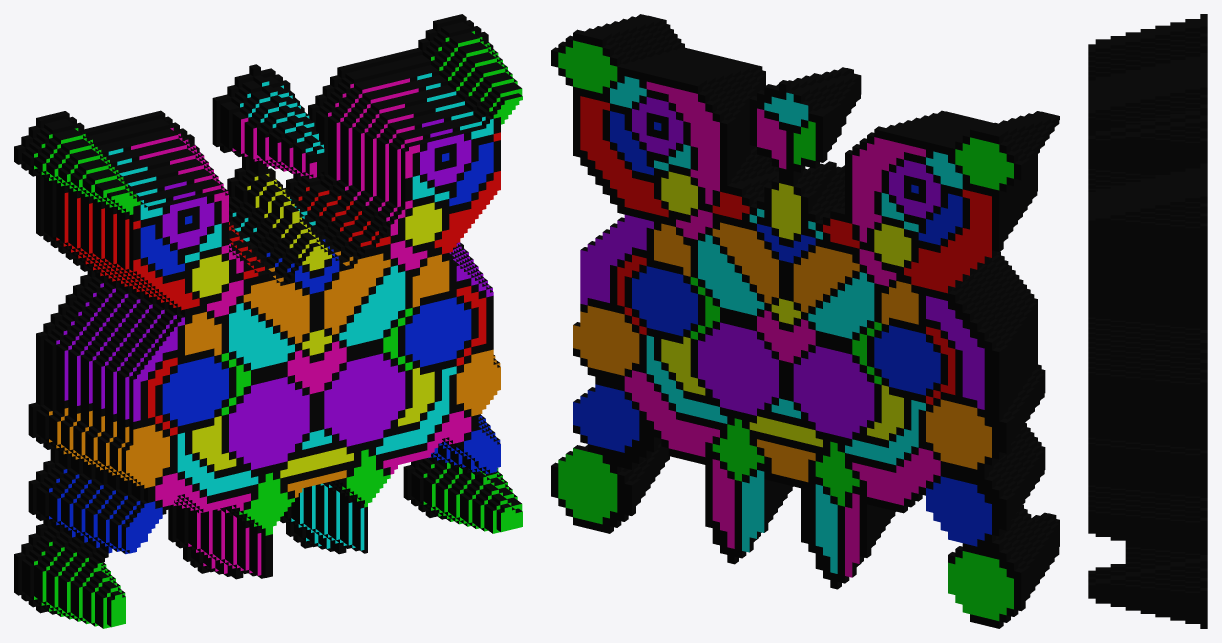
File: dreamlingP11.obj
The picture shows the model from 3 angles, left to right: view 1: azimuth 30°, elevation 25°; view 2: azimuth 150°, elevation 25°; view 3: azimuth 270°, elevation 25°; orthographic projection. The views are drawn at different scales.
Size of the model in its own units: 128 by 128 by 32.
